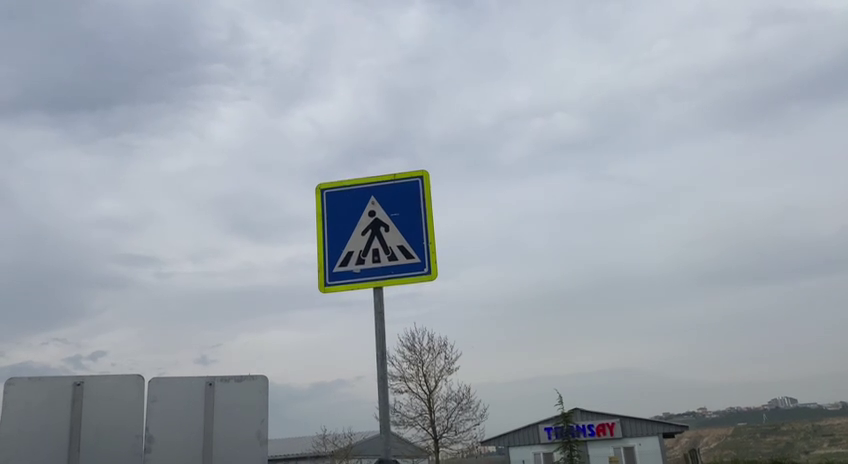pedestrianCrossing: (314, 167, 442, 293)
